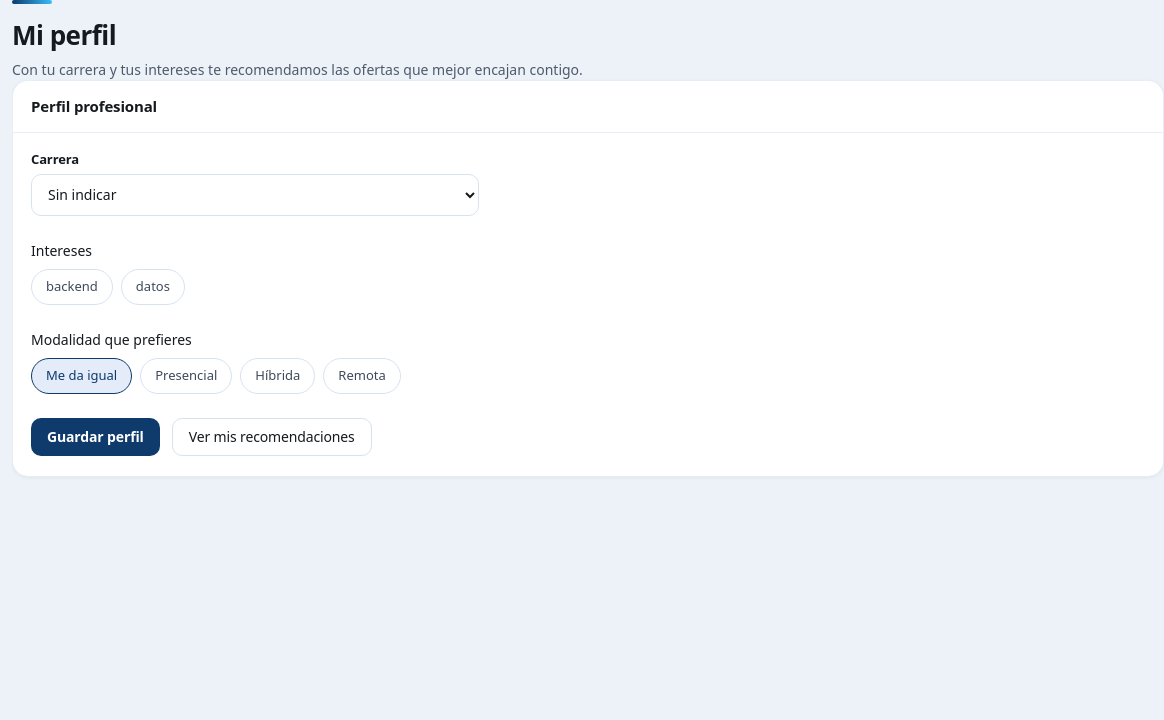
it: ProfilePage › shows the save error
The width and height of the screenshot is (1164, 720).
Click the button "Guardar perfil" at {"x": 95, "y": 436}, box [31,418,160,456]
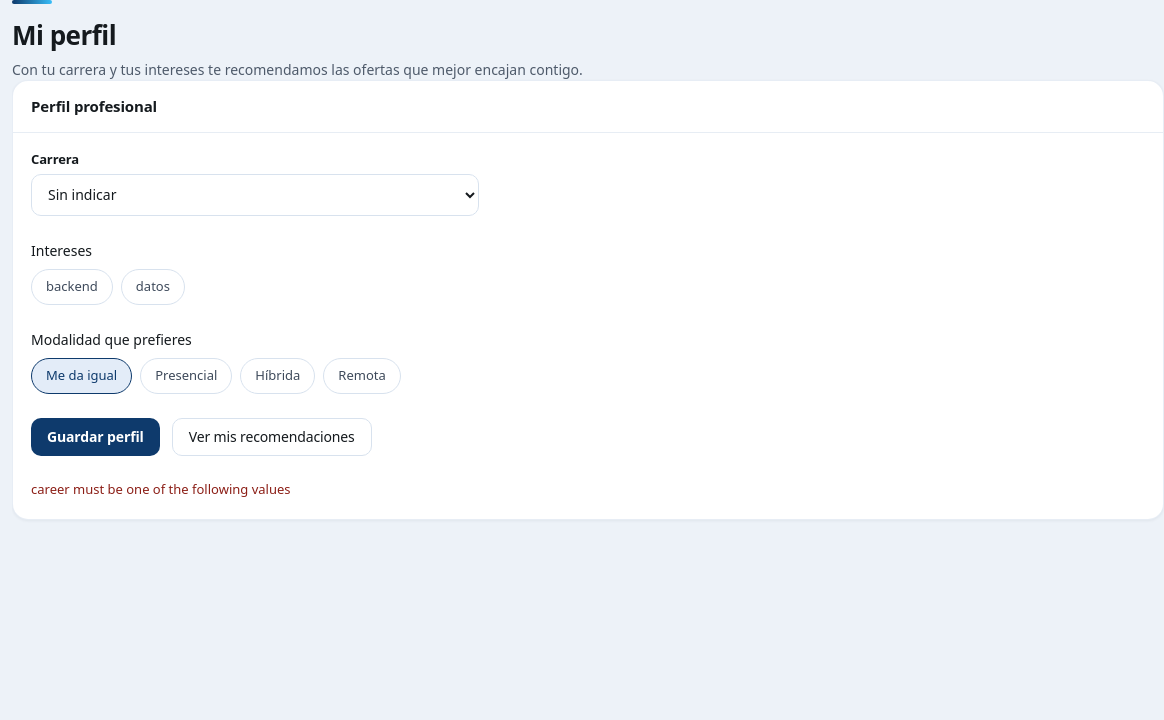
expect the text "career must be one of the following values" is shown: met, box [31,480,290,498]
